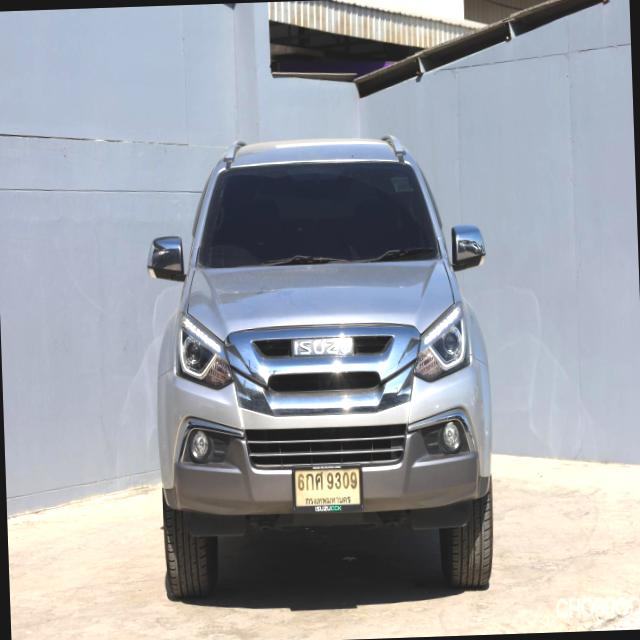license_plate: (290, 462, 364, 514)
